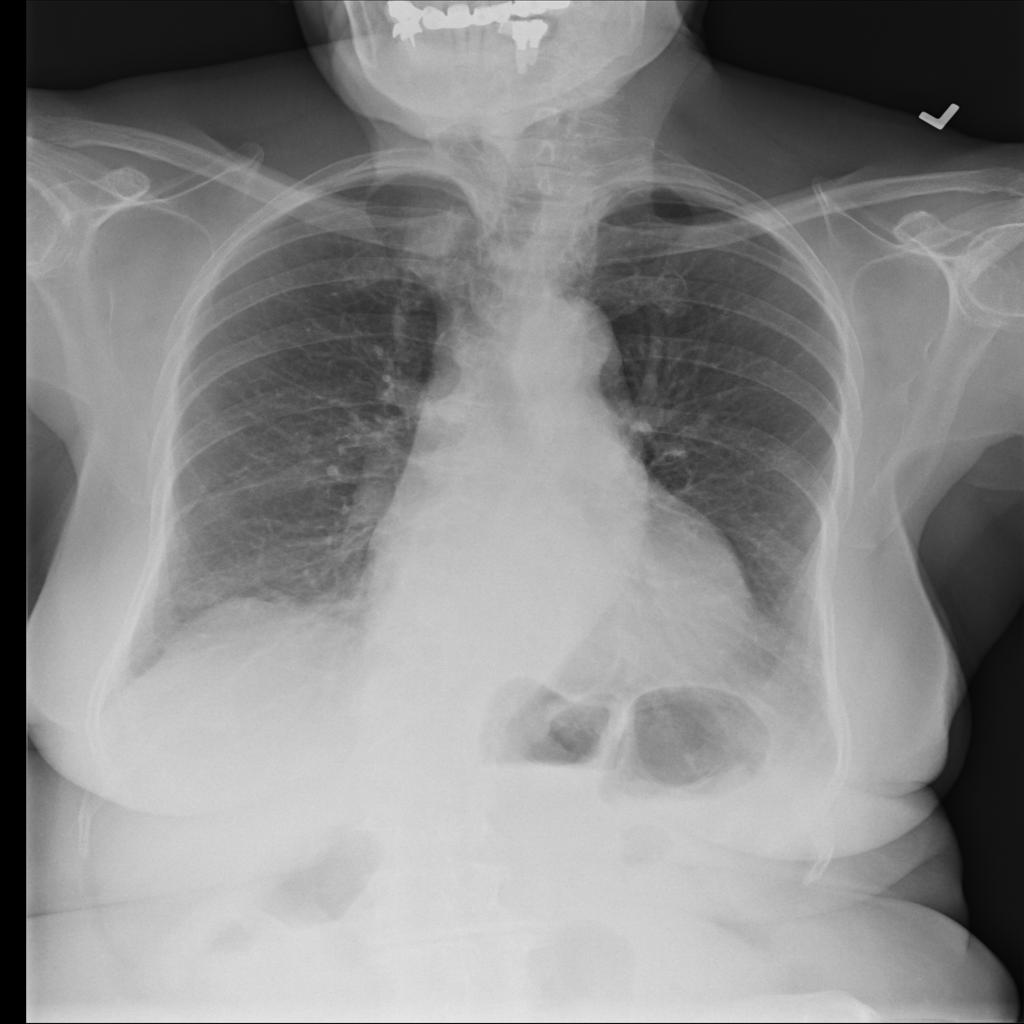Cardiomegaly: (315, 371, 801, 748)
